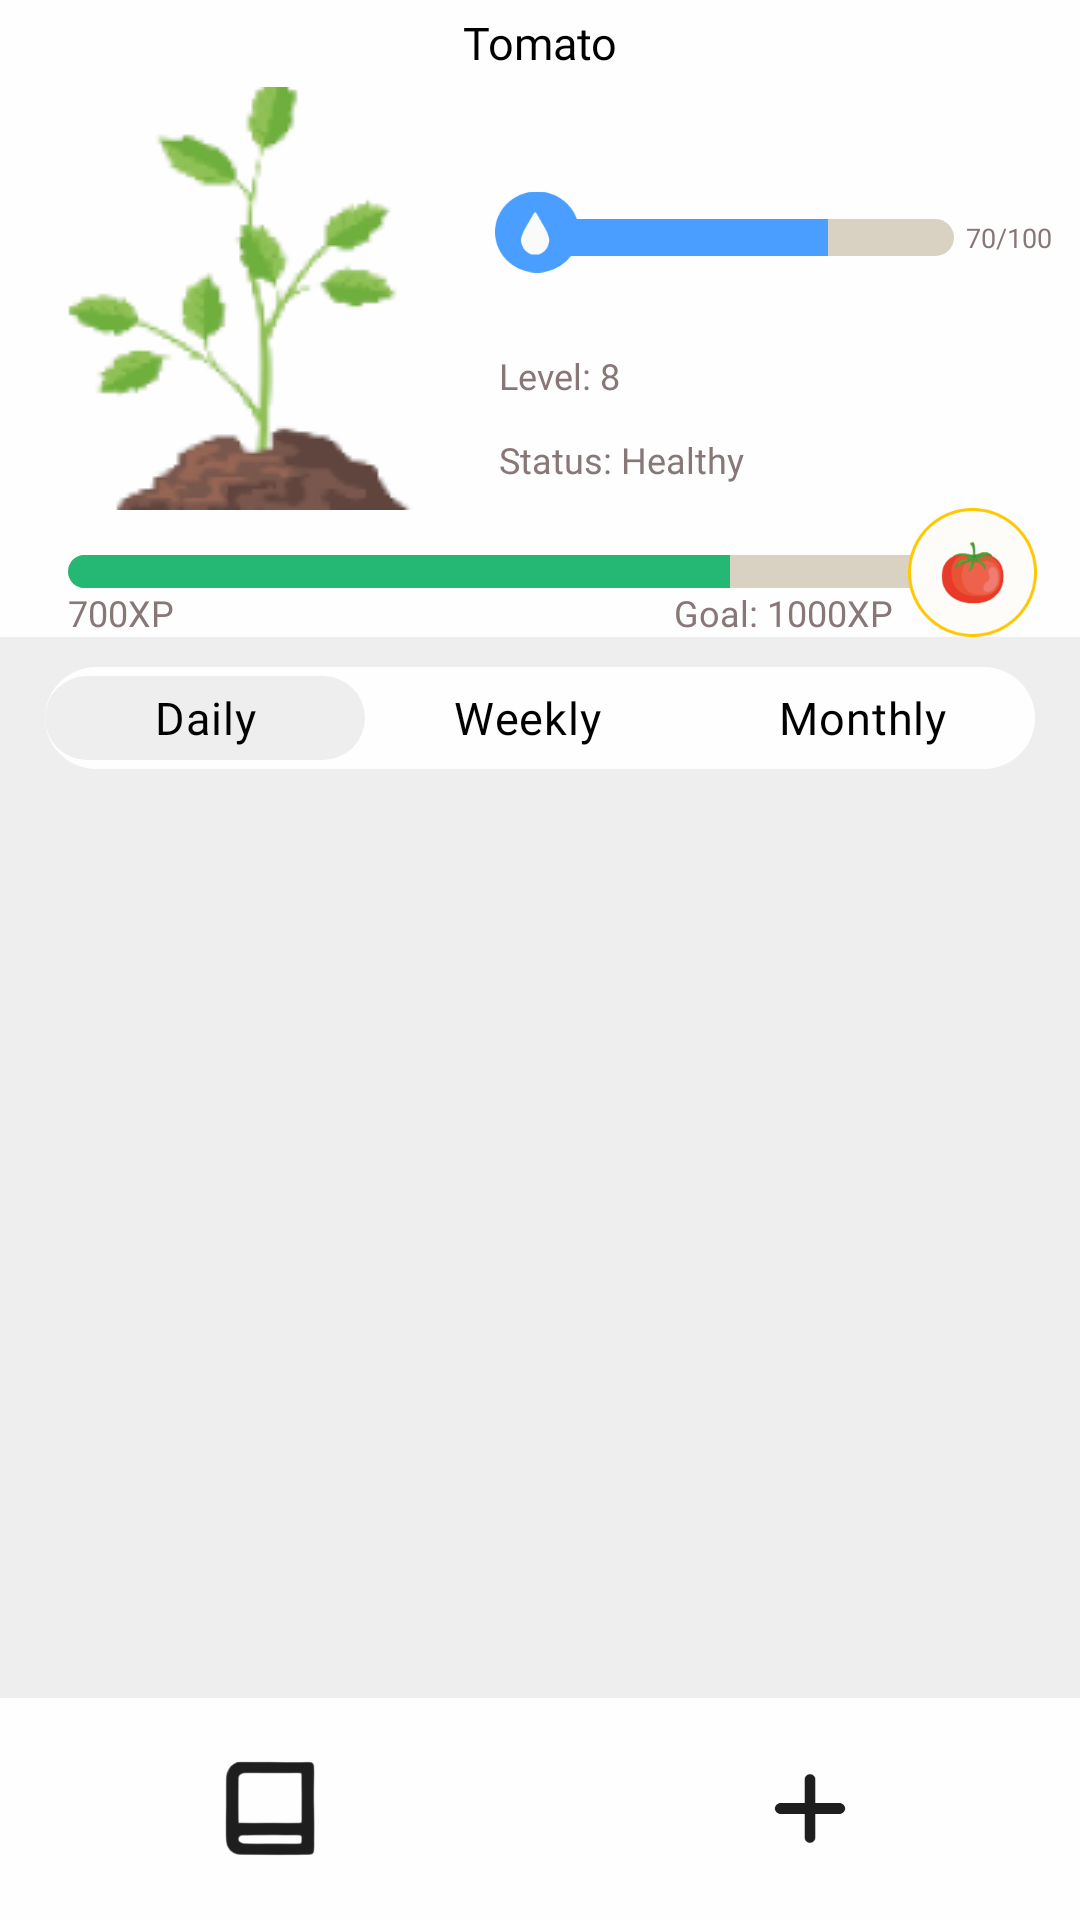

Icon click points for this 1080w x 1920h phone screenshot, format (x=x, y=y):
add: (x=810, y=1808)
fruit tomato: (x=972, y=573)
water: (x=537, y=232)
